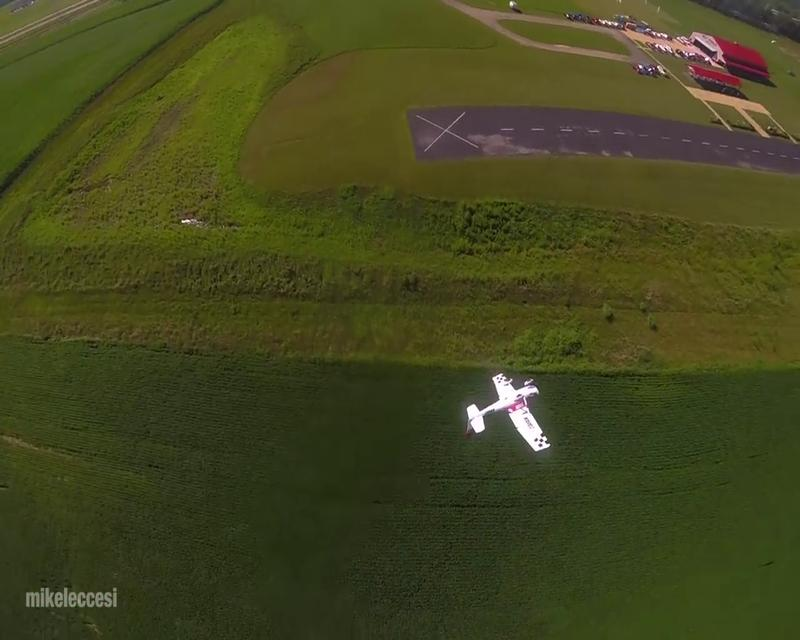UAV: (464, 371, 551, 452)
